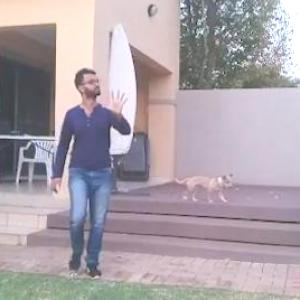follow_hand: (102, 83, 132, 117)
